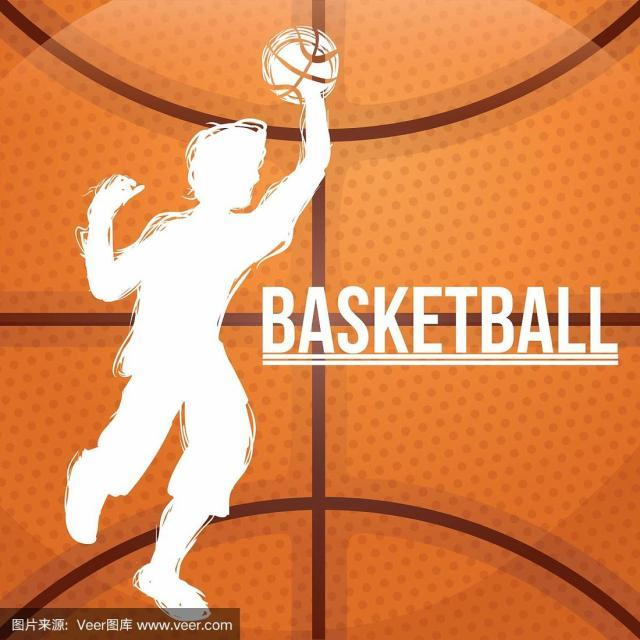rim: (258, 29, 340, 104)
